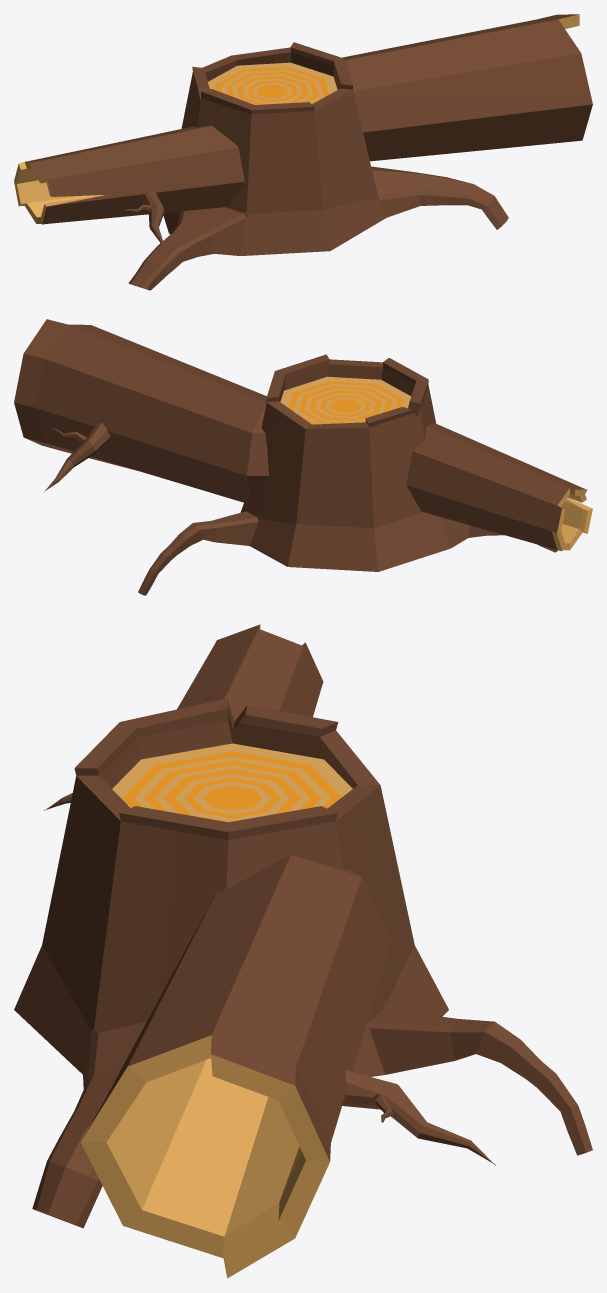
File: WoodenLog.fbx
3 views of the same model, one above another, from view 1: azimuth 30°, elevation 25°; view 2: azimuth 150°, elevation 25°; view 3: azimuth 270°, elevation 25° (orthographic). The views are drawn at different scales.
Parts seen in each view (by area): view 1: FallenLog, Stump; view 2: FallenLog, Stump; view 3: Stump, FallenLog.
Boxes of the visible parts, bbox=[...] form: FallenLog: bbox=[14, 14, 592, 252]; Stump: bbox=[128, 42, 508, 290]; FallenLog: bbox=[14, 319, 592, 551]; Stump: bbox=[138, 354, 558, 595]; Stump: bbox=[14, 698, 592, 1228]; FallenLog: bbox=[44, 624, 495, 1278].
Size of the model in its own units: 477 by 138 by 242.
